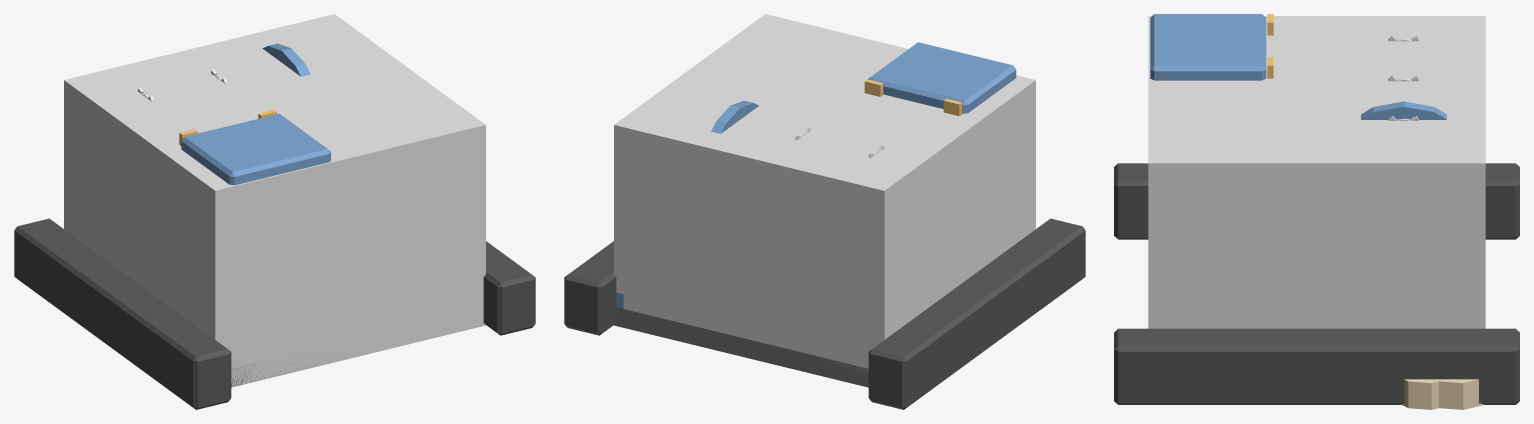
File: AutoChopper_Mk3.fbx
3 views of the same model, side by side, from view 1: azimuth 30°, elevation 25°; view 2: azimuth 150°, elevation 25°; view 3: azimuth 270°, elevation 25° (orthographic). The views are drawn at different scales.
Parts seen in each view (by area): view 1: COL_Body, Base, Arm; view 2: COL_Body, Base, Arm; view 3: COL_Body, Base, Arm.
Boxes of the visible parts, x1,y1,x2,y2 form: COL_Body: (64, 14, 485, 387); Base: (14, 110, 535, 409); Arm: (262, 43, 310, 76); COL_Body: (614, 14, 1035, 379); Base: (564, 42, 1085, 409); Arm: (711, 100, 758, 133); COL_Body: (1148, 16, 1485, 328); Base: (1114, 14, 1519, 409); Arm: (1361, 101, 1446, 119).
Bounding box in the file's own units: 4.26 × 2.48 × 3.85.
